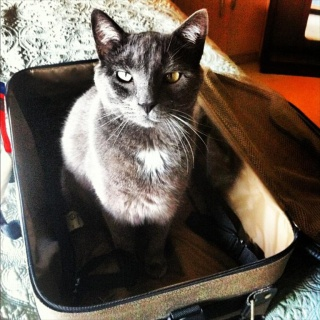Cat: (56, 5, 223, 288)
